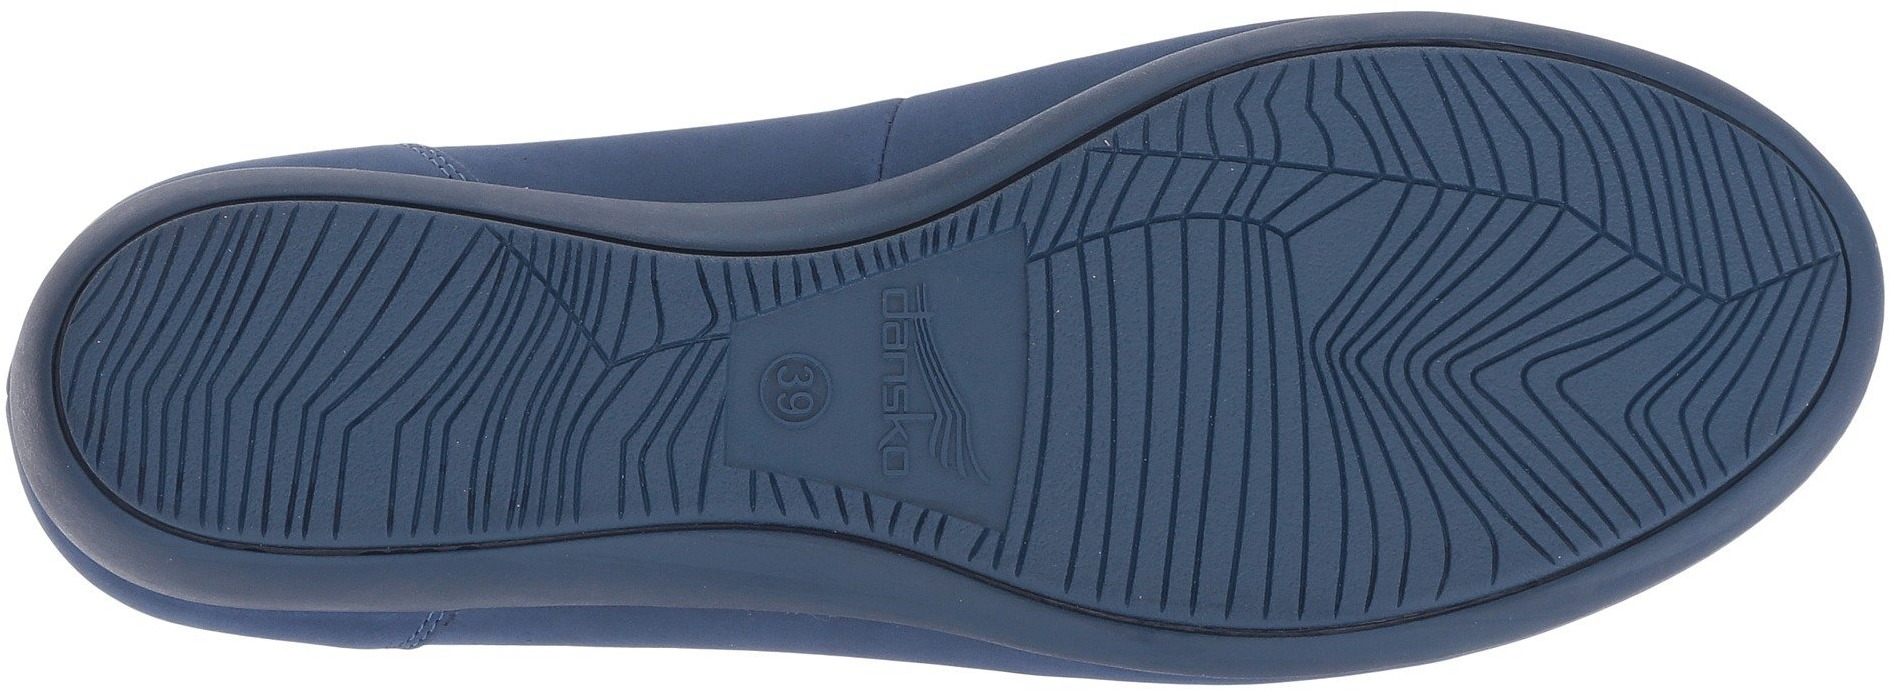text: (840, 315, 981, 443)
